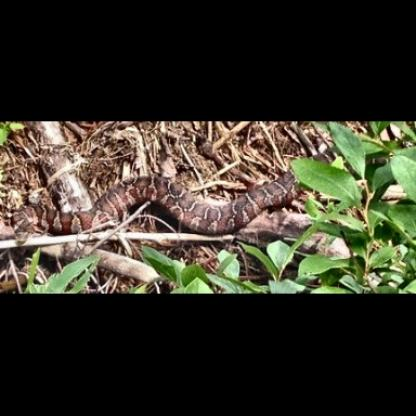Snake: (6, 170, 310, 243)
